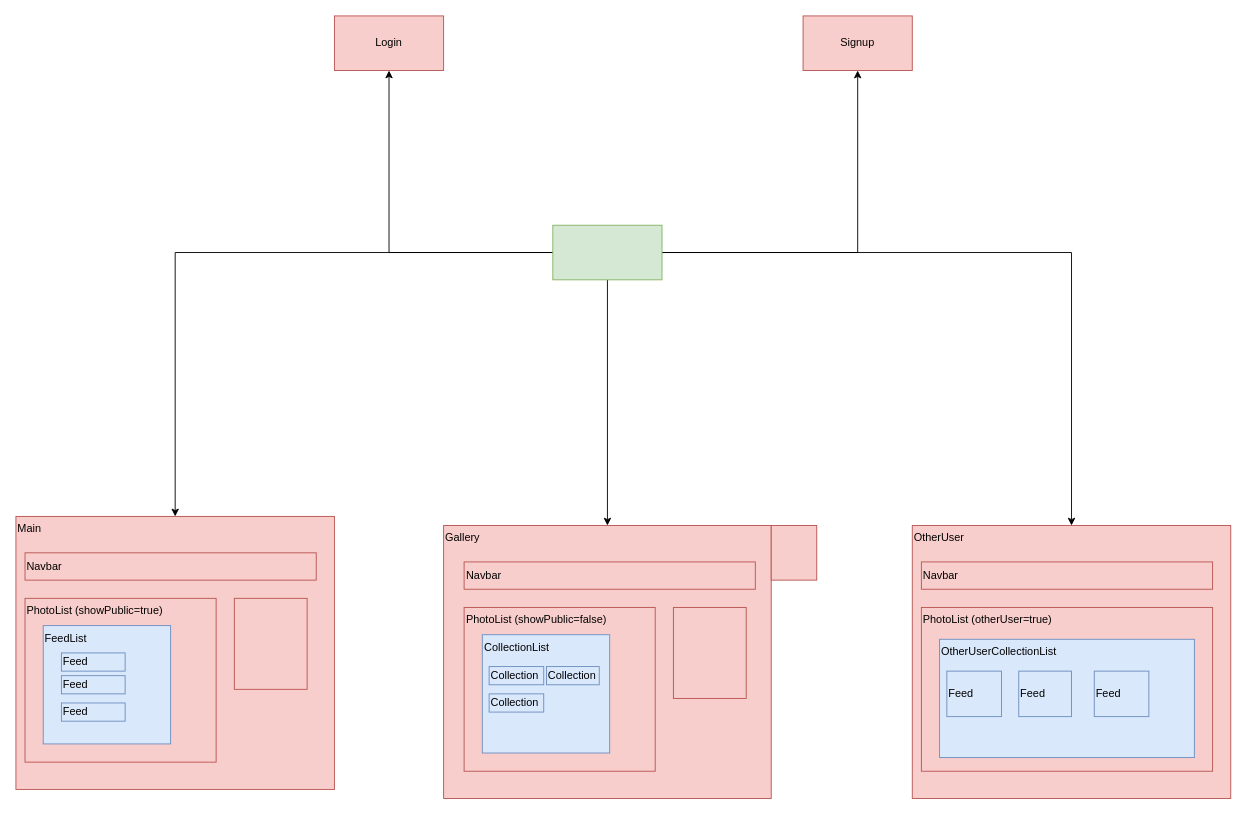
The diagram is 1247 pixels wide and 814 high, and some of its shapes have lost their labels. The centre of each missing label's shape, as x and y in pixels:
"App" goes at point 607,252.
"GroupList" goes at point 709,652.
"Upload" goes at point 793,552.
"Users" goes at point 270,643.
